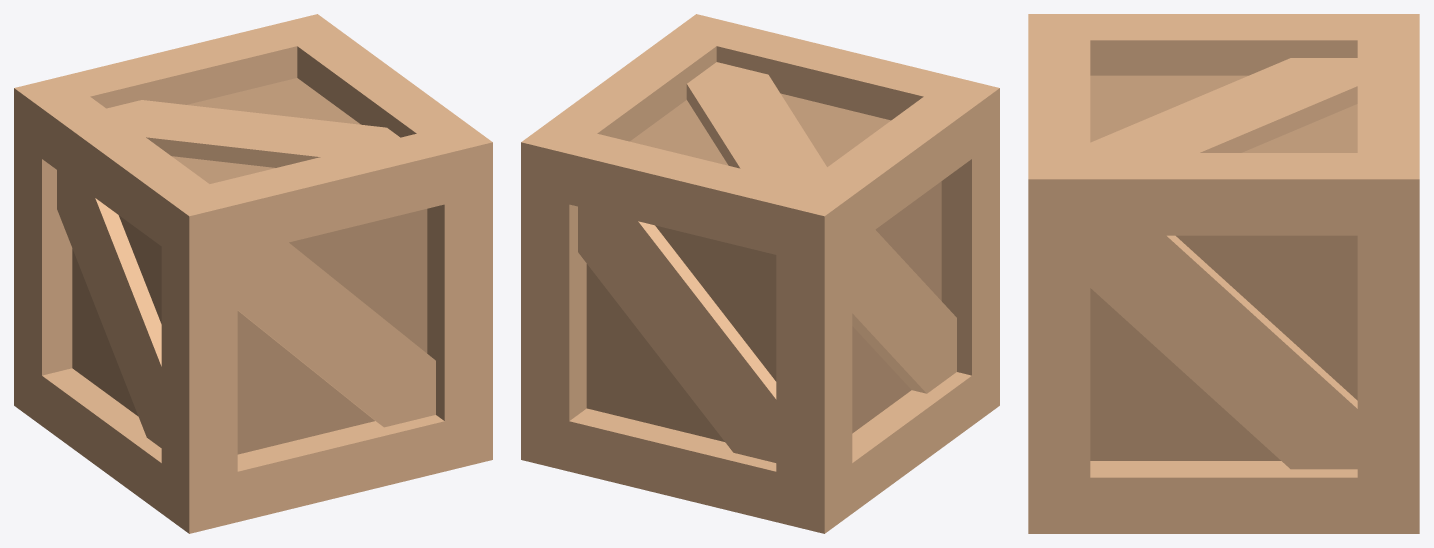
File: crate.fbx
The picture shows the model from 3 angles, left to right: view 1: azimuth 30°, elevation 25°; view 2: azimuth 150°, elevation 25°; view 3: azimuth 270°, elevation 25°; orthographic projection. The views are drawn at different scales.
Visible parts, largest first — view 1: crate_LOD0; view 2: crate_LOD0; view 3: crate_LOD0.
Boxes of the visible parts, left/top/right/bottom form: crate_LOD0: left=14, top=14, right=492, bottom=533; crate_LOD0: left=521, top=14, right=999, bottom=533; crate_LOD0: left=1028, top=14, right=1419, bottom=533.
Size of what is drawn, in the model's own units: 50 by 50 by 50.
